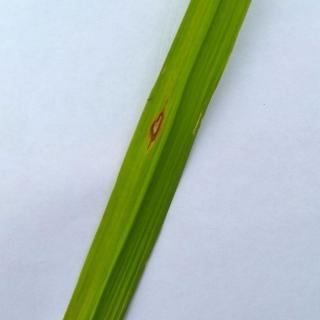Blast: (145, 100, 171, 156)
